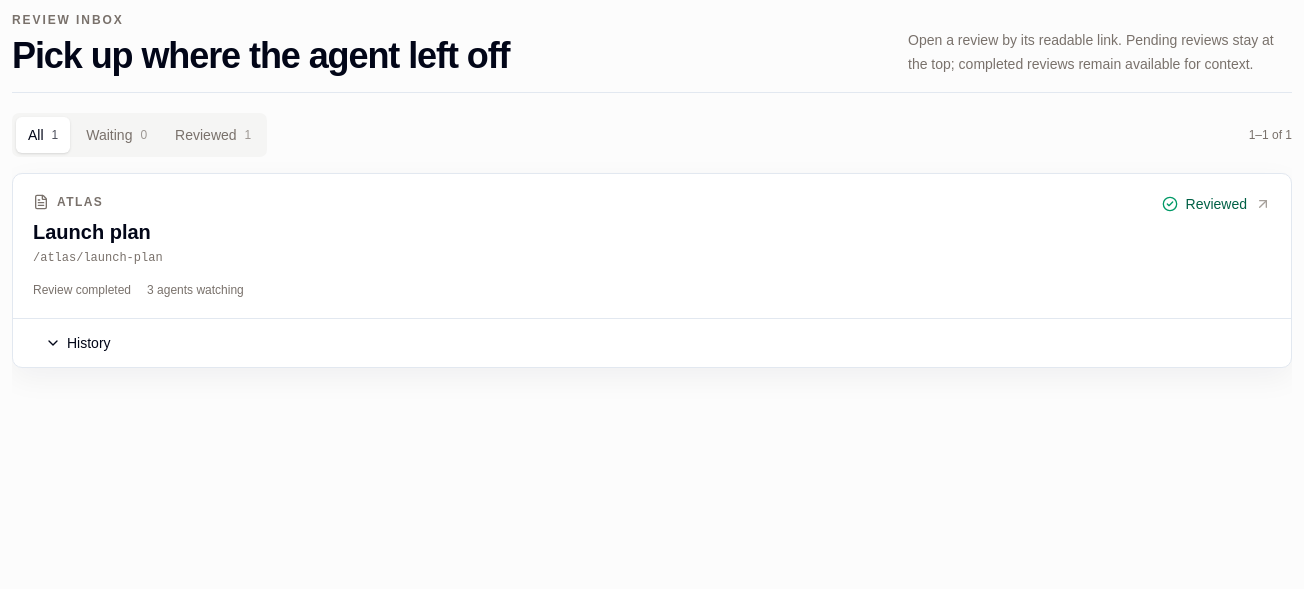
Test case: ReviewHome review history › announces a history error and retries the read explicitly
The image size is (1304, 589).
Click the button "History": (78, 343) x1=33 y1=327 x2=123 y2=359
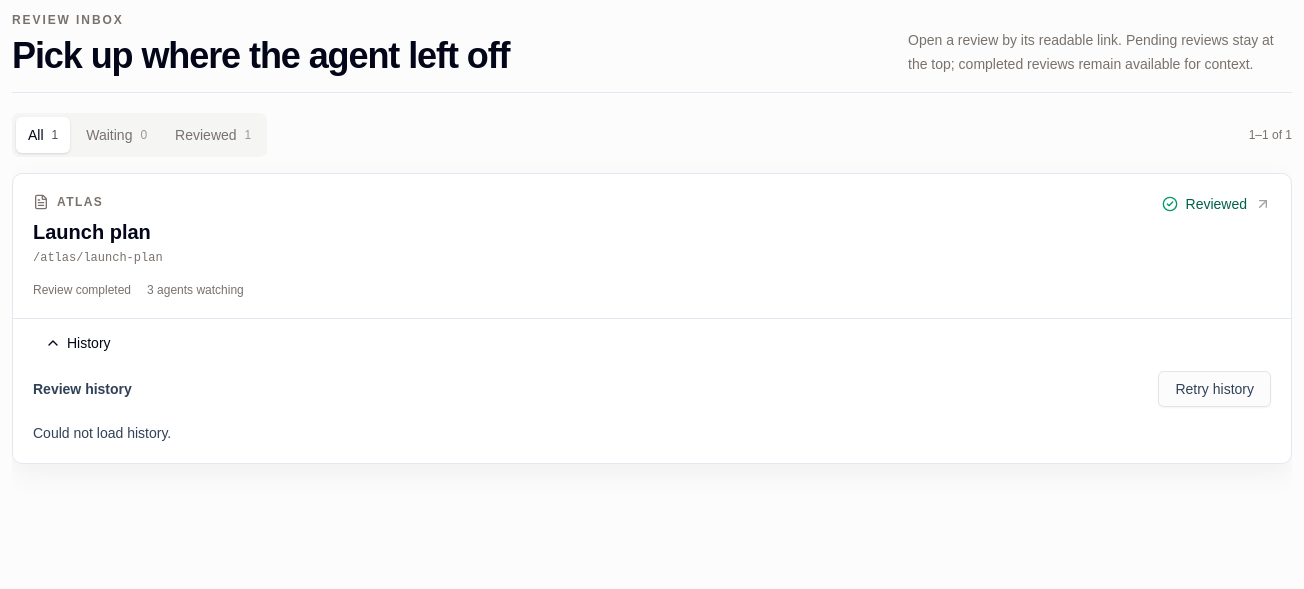
Result: the message "Could not load history." is shown at x1=33 y1=425 x2=171 y2=441
Click the button "Retry history": (1215, 389) x1=1158 y1=371 x2=1271 y2=407
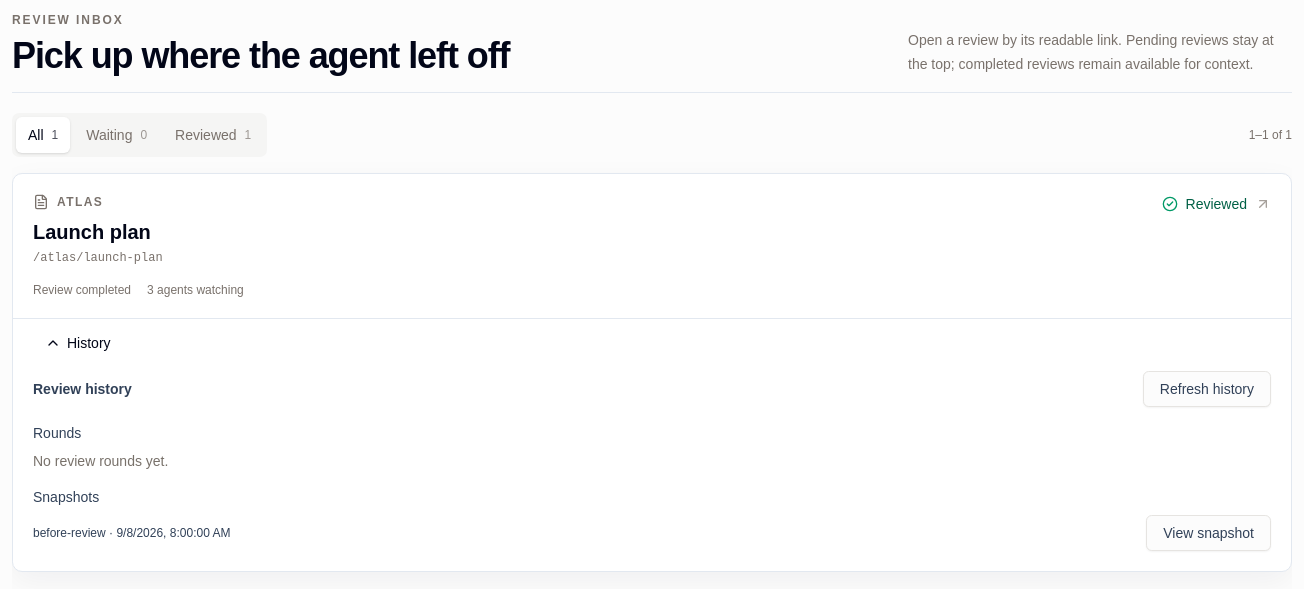
Result: the button "View snapshot" is shown at x1=1146 y1=515 x2=1271 y2=551
